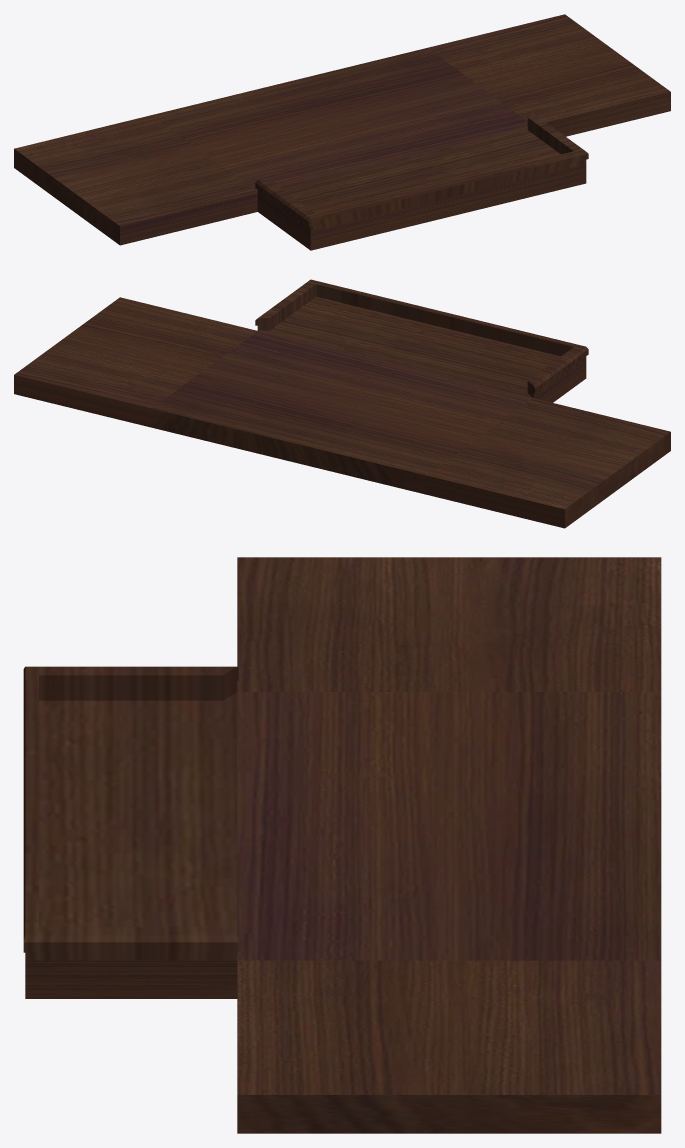
The model's file is Stag-Texture.fbx.
3 renders of one model, top to bottom at view 1: azimuth 30°, elevation 25°; view 2: azimuth 150°, elevation 25°; view 3: azimuth 270°, elevation 25°, orthographic. The views are drawn at different scales.
Visible parts, largest first — view 1: Cube; view 2: Cube; view 3: Cube.
Part boxes in pixels (x1=…): Cube: x1=14, y1=14, x2=670, y2=250; Cube: x1=14, y1=279, x2=670, y2=528; Cube: x1=23, y1=557, x2=661, y2=1133.
Bounding box in the file's own units: 6000 × 331 × 3007.
Materials: 1 (1 with a texture image).
